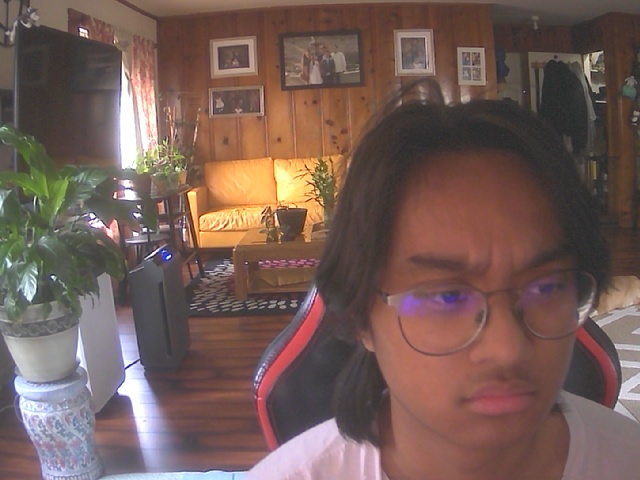anger: (351, 122, 611, 456)
